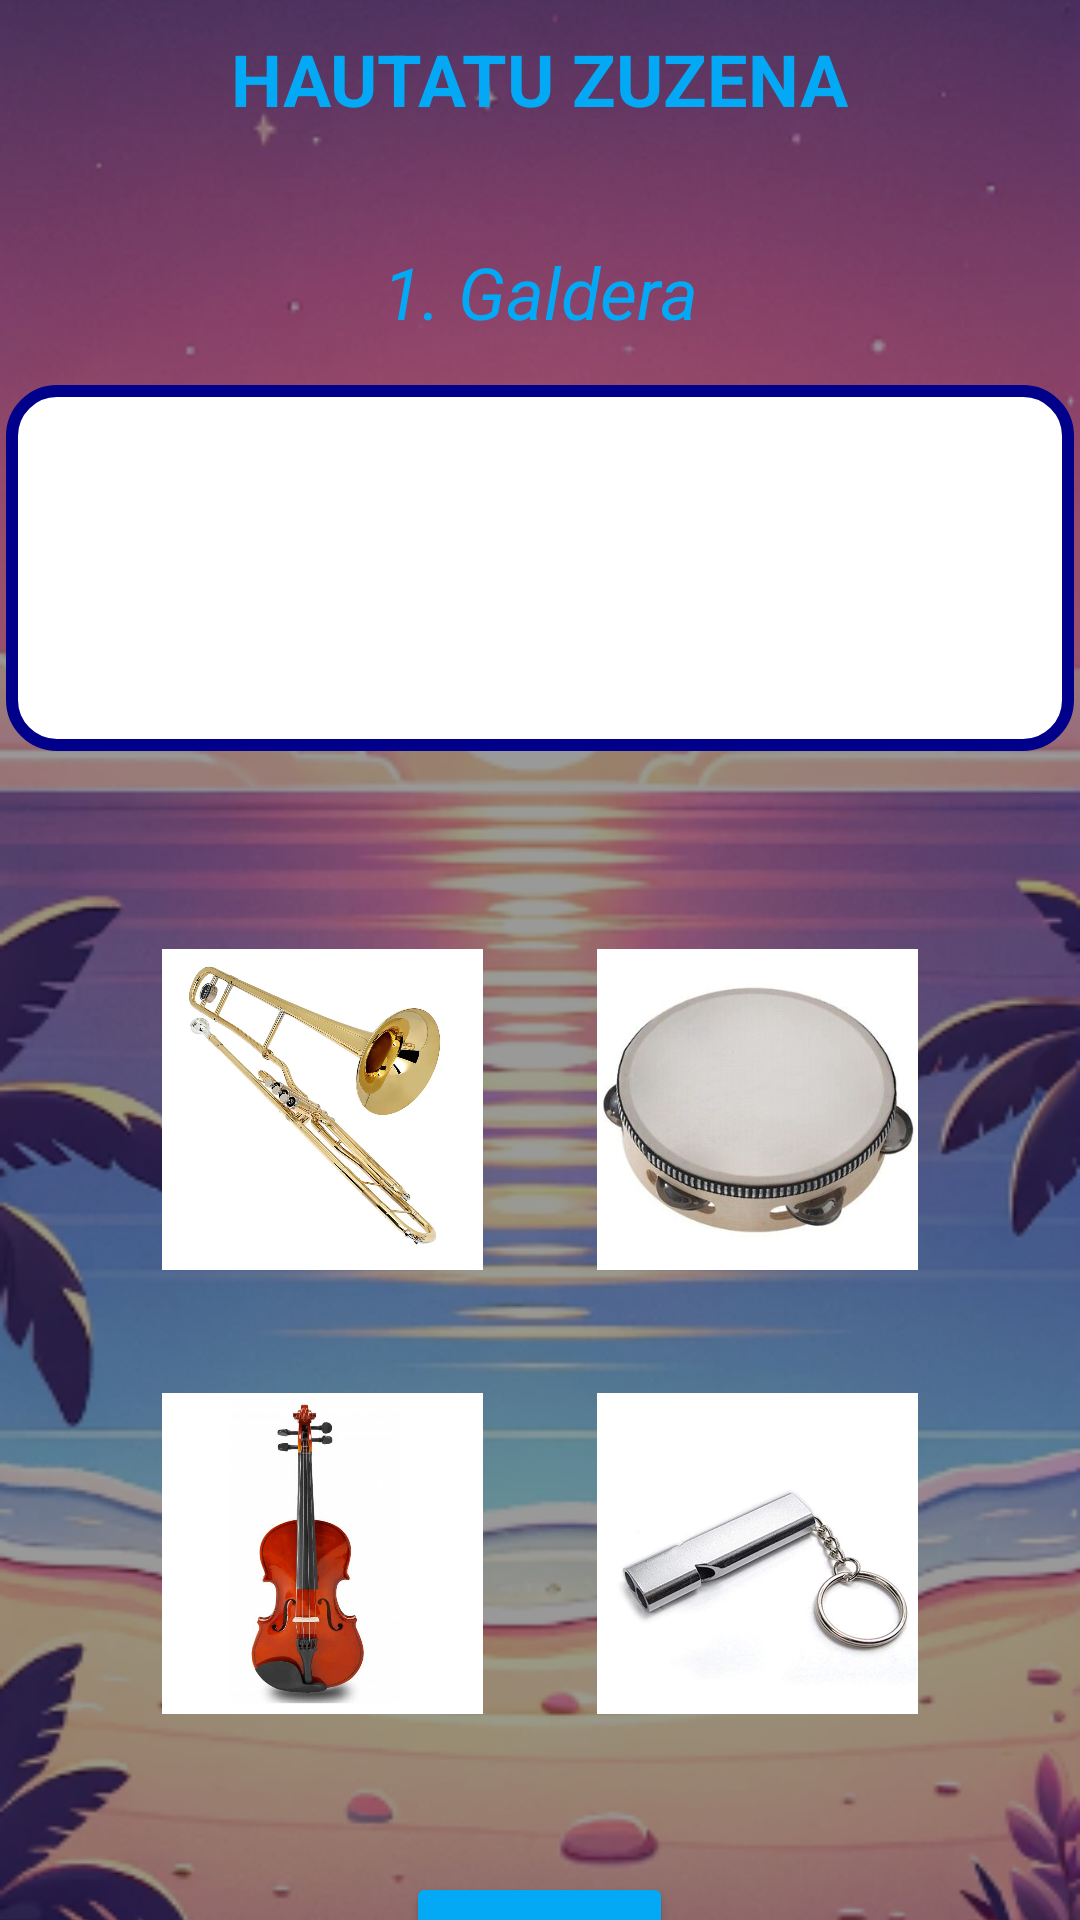

Icons on this 1080x1920 Android screen, each with the point to tap as (x,y):
pandereta: (757,1109)
silbido: (757,1553)
trombon: (322,1109)
violin: (322,1553)
